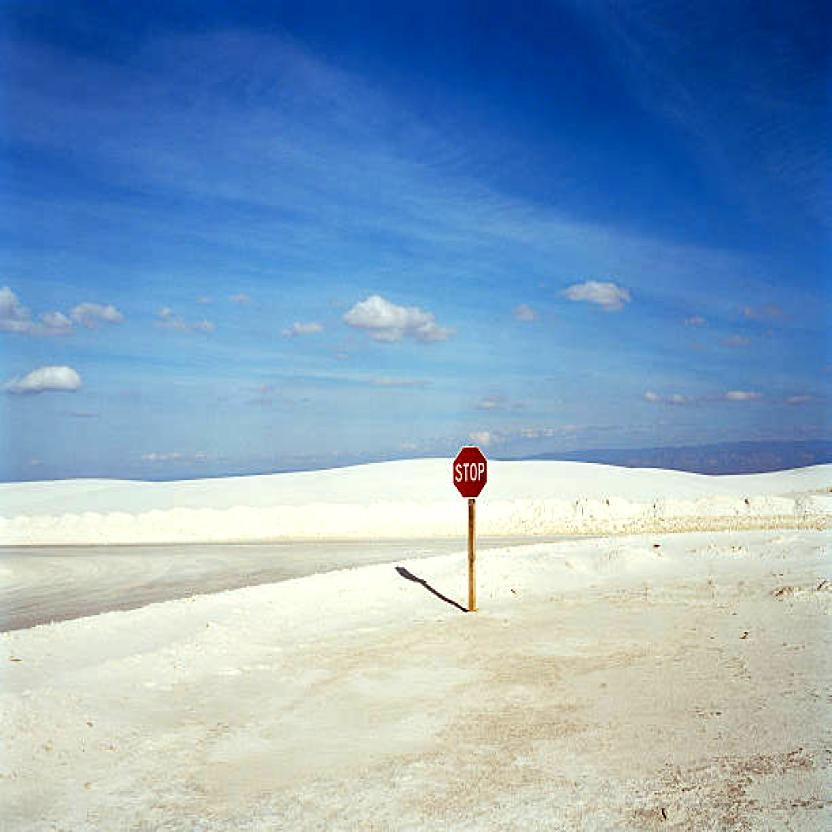Pole: (467, 498, 477, 608)
Sign: (452, 448, 487, 498)
